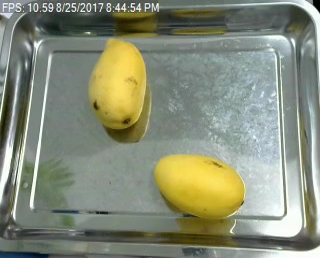Mango: (152, 154, 247, 220), (85, 36, 150, 130)
